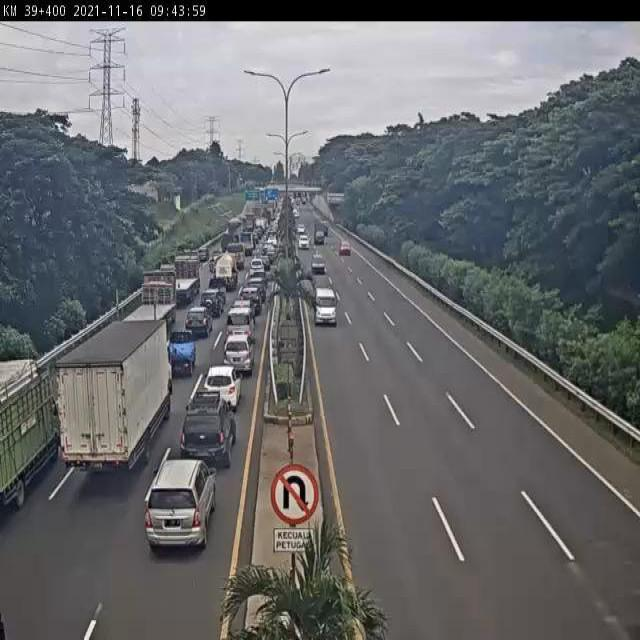car: (145, 462, 221, 554), (177, 395, 237, 468), (202, 362, 244, 414), (163, 327, 194, 373), (223, 333, 252, 378), (313, 284, 337, 328), (226, 309, 255, 343), (184, 304, 213, 337), (199, 287, 223, 320), (239, 285, 262, 315), (246, 276, 268, 299), (208, 278, 229, 302), (310, 254, 325, 278), (232, 298, 254, 314), (249, 260, 267, 279)
truck-l-: (121, 265, 176, 327), (163, 252, 201, 303)
truck-m-: (58, 319, 184, 472), (0, 355, 63, 512), (208, 249, 239, 288)
